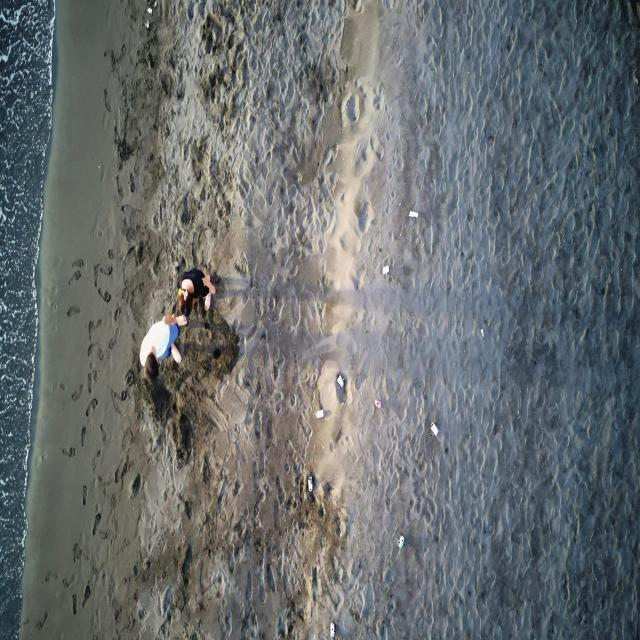tin-and-aluminum-cans: (336, 374, 345, 388), (329, 621, 335, 639), (315, 408, 325, 418), (432, 422, 439, 436), (409, 210, 418, 220), (398, 534, 404, 548), (374, 398, 382, 408), (382, 265, 390, 275), (308, 476, 313, 492)
